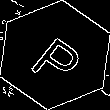P_NE: (23, 24, 87, 86)
